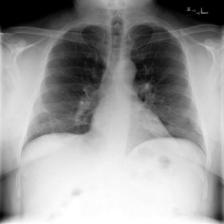normal: (17, 16, 212, 167)
